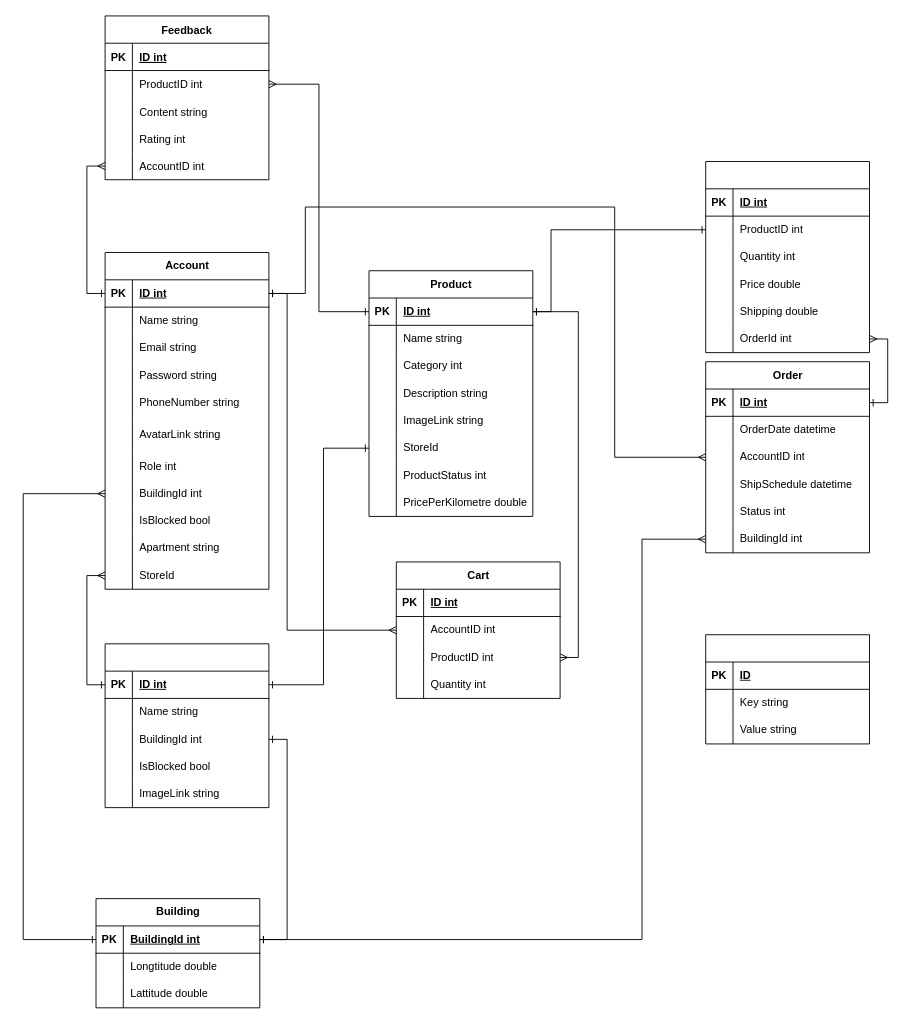
Image size: 912x1024. Some labels were removed from this diagram. Each missing label, with the box of its shape:
OrderDetail: (705, 161, 870, 353)
Store: (104, 643, 269, 808)
SystemConfig: (705, 634, 870, 744)
